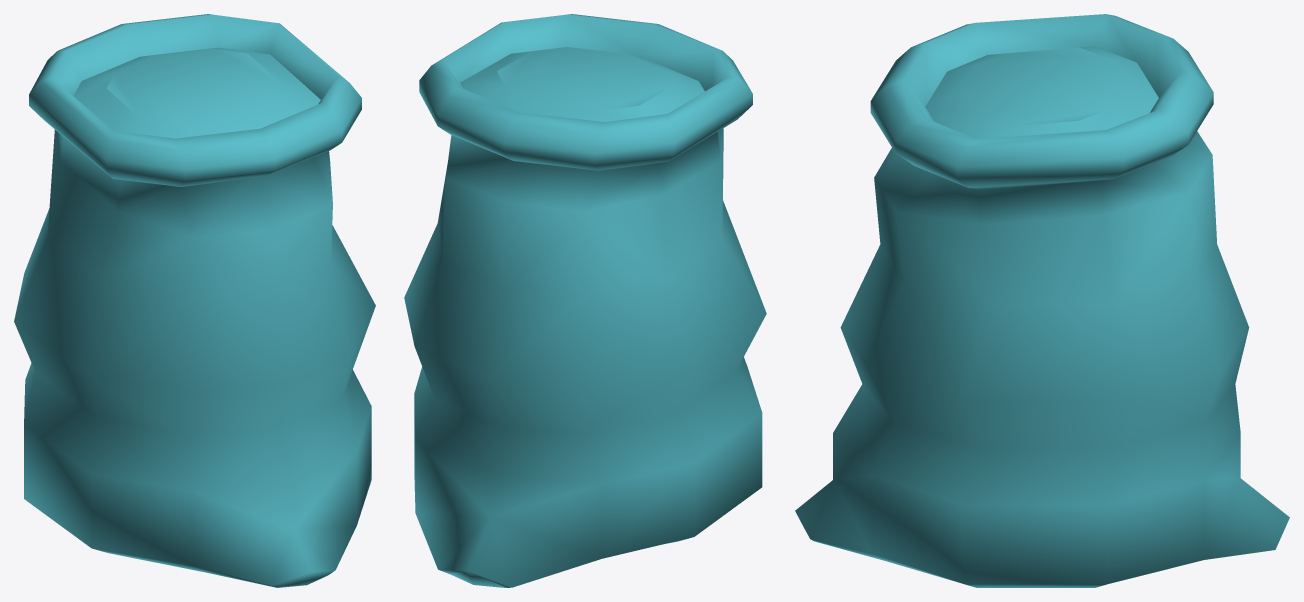
The model's file is Worek z monką.fbx.
3 views of the same model, side by side, from view 1: azimuth 30°, elevation 25°; view 2: azimuth 150°, elevation 25°; view 3: azimuth 270°, elevation 25° (orthographic). The views are drawn at different scales.
Visible parts, largest first — view 1: Worek z monką; view 2: Worek z monką; view 3: Worek z monką.
Part boxes in pixels (<box>): Worek z monką: <box>14,14,375,587</box>; Worek z monką: <box>404,14,766,587</box>; Worek z monką: <box>795,14,1289,587</box>.
Size of the model in its own units: 18.08 by 26.28 by 25.4.
